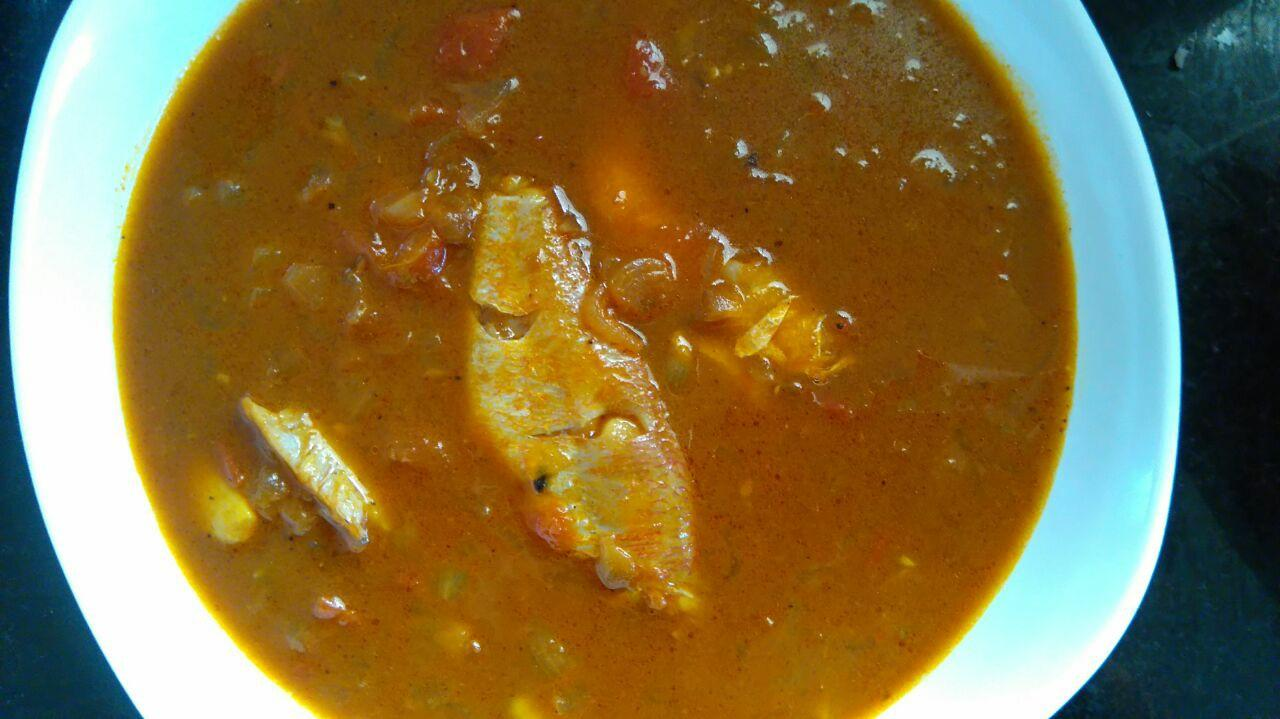FishCurry: (112, 3, 1080, 719)
